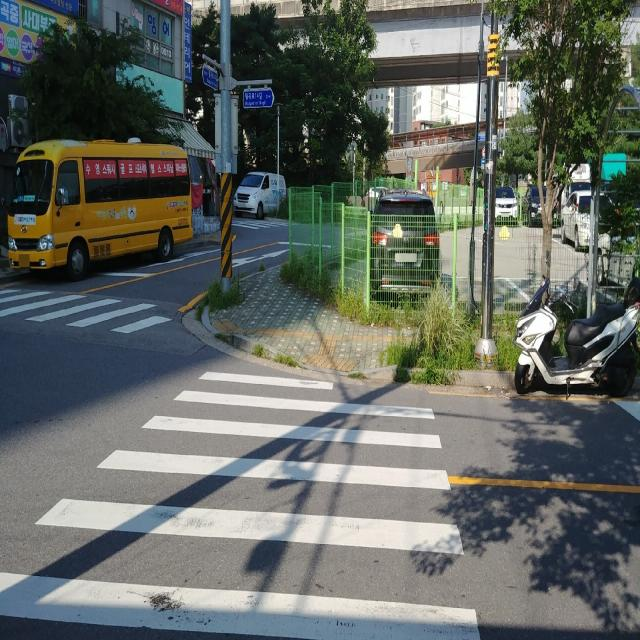횡단보도: (0, 372, 481, 640), (0, 281, 178, 336)
